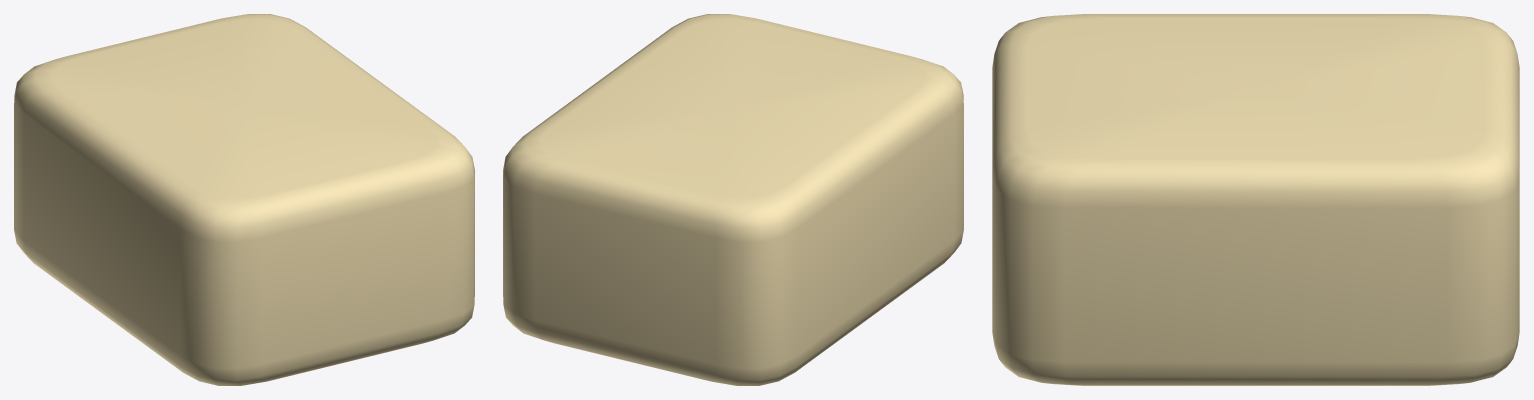
The picture shows the model from 3 angles, left to right: view 1: azimuth 30°, elevation 25°; view 2: azimuth 150°, elevation 25°; view 3: azimuth 270°, elevation 25°; orthographic projection. The views are drawn at different scales.
Visible parts, largest first — view 1: MJ_E; view 2: MJ_E; view 3: MJ_E.
Boxes of the visible parts, x1=… form: MJ_E: x1=14, y1=14, x2=474, y2=385; MJ_E: x1=503, y1=14, x2=963, y2=385; MJ_E: x1=992, y1=14, x2=1519, y2=385.
Bounding box in the file's own units: 35 × 21.41 × 46.
